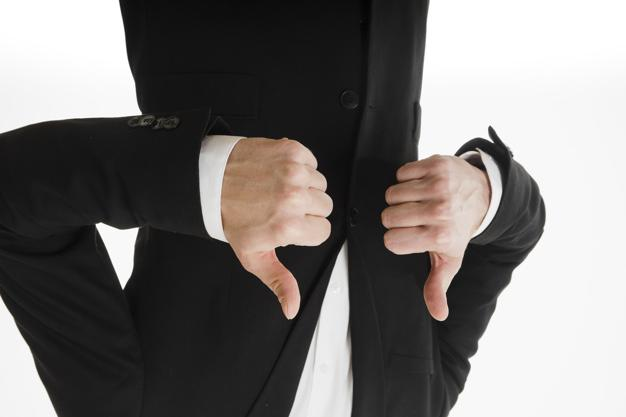thumbsdown: (245, 138, 333, 320), (381, 155, 458, 321)
